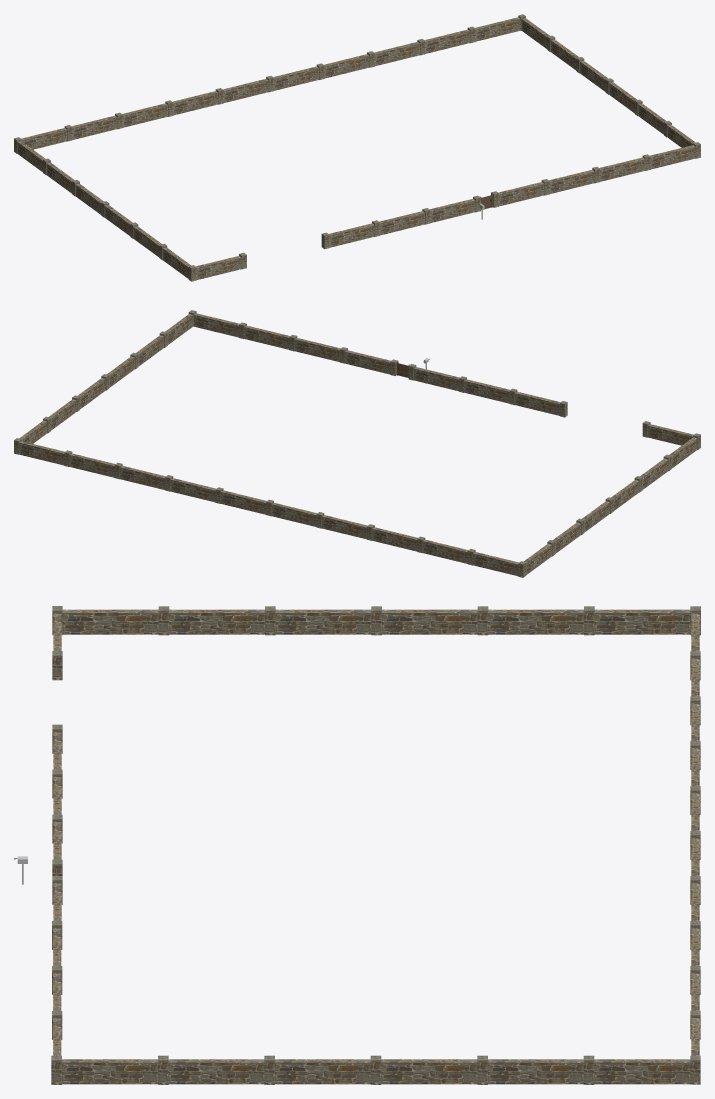
The model's file is FarmFense01.fbx.
3 renders of one model, top to bottom at view 1: azimuth 30°, elevation 25°; view 2: azimuth 150°, elevation 25°; view 3: azimuth 270°, elevation 25°, orthographic. The views are drawn at different scales.
Parts seen in each view (by area): view 1: FarmFence4.001; view 2: FarmFence4.001; view 3: FarmFence4.001.
Part boxes in pixels (x1,y1,x2,y2): FarmFence4.001: (14,14,700,281); FarmFence4.001: (14,310,700,577); FarmFence4.001: (51,606,700,1084).
Size of the model in its own units: 5159 by 144 by 3298.
